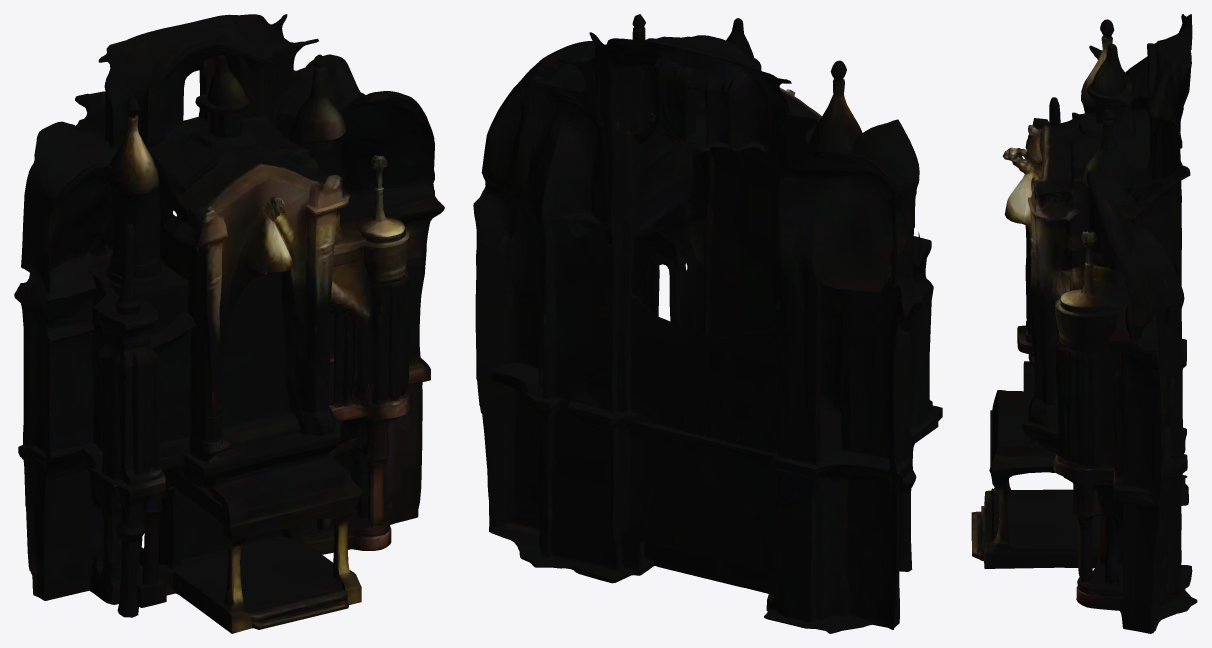
The model's file is prop_cathedral_organ.fbx.
The picture shows the model from 3 angles, left to right: view 1: azimuth 30°, elevation 25°; view 2: azimuth 150°, elevation 25°; view 3: azimuth 270°, elevation 25°; orthographic projection. The views are drawn at different scales.
Visible parts, largest first — view 1: geometry_0; view 2: geometry_0; view 3: geometry_0.
Part boxes in pixels (box(x1,y1,x2,y2)): geometry_0: box(14, 14, 444, 633); geometry_0: box(473, 14, 942, 633); geometry_0: box(971, 14, 1197, 633).
Size of the model in its own units: 0.8273 by 1 by 0.4166.
